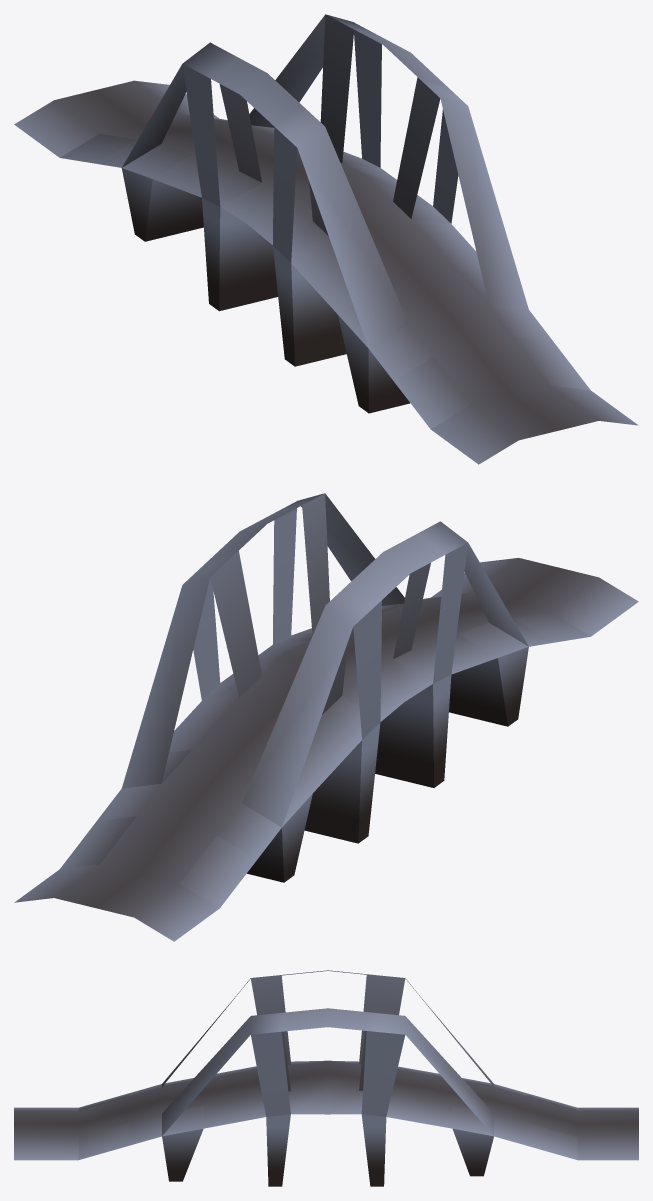
The model's file is harborbridge.fbx.
3 renders of one model, top to bottom at view 1: azimuth 30°, elevation 25°; view 2: azimuth 150°, elevation 25°; view 3: azimuth 270°, elevation 25°, orthographic. The views are drawn at different scales.
Visible parts, largest first — view 1: geo_struts; view 2: geo_struts; view 3: geo_struts.
Part boxes in pixels (left/top/right/bottom): geo_struts: left=14, top=14, right=638, bottom=464; geo_struts: left=14, top=493, right=638, bottom=941; geo_struts: left=14, top=970, right=638, bottom=1186.
Bounding box in the file's own units: 21.22 × 30.43 × 99.73.
